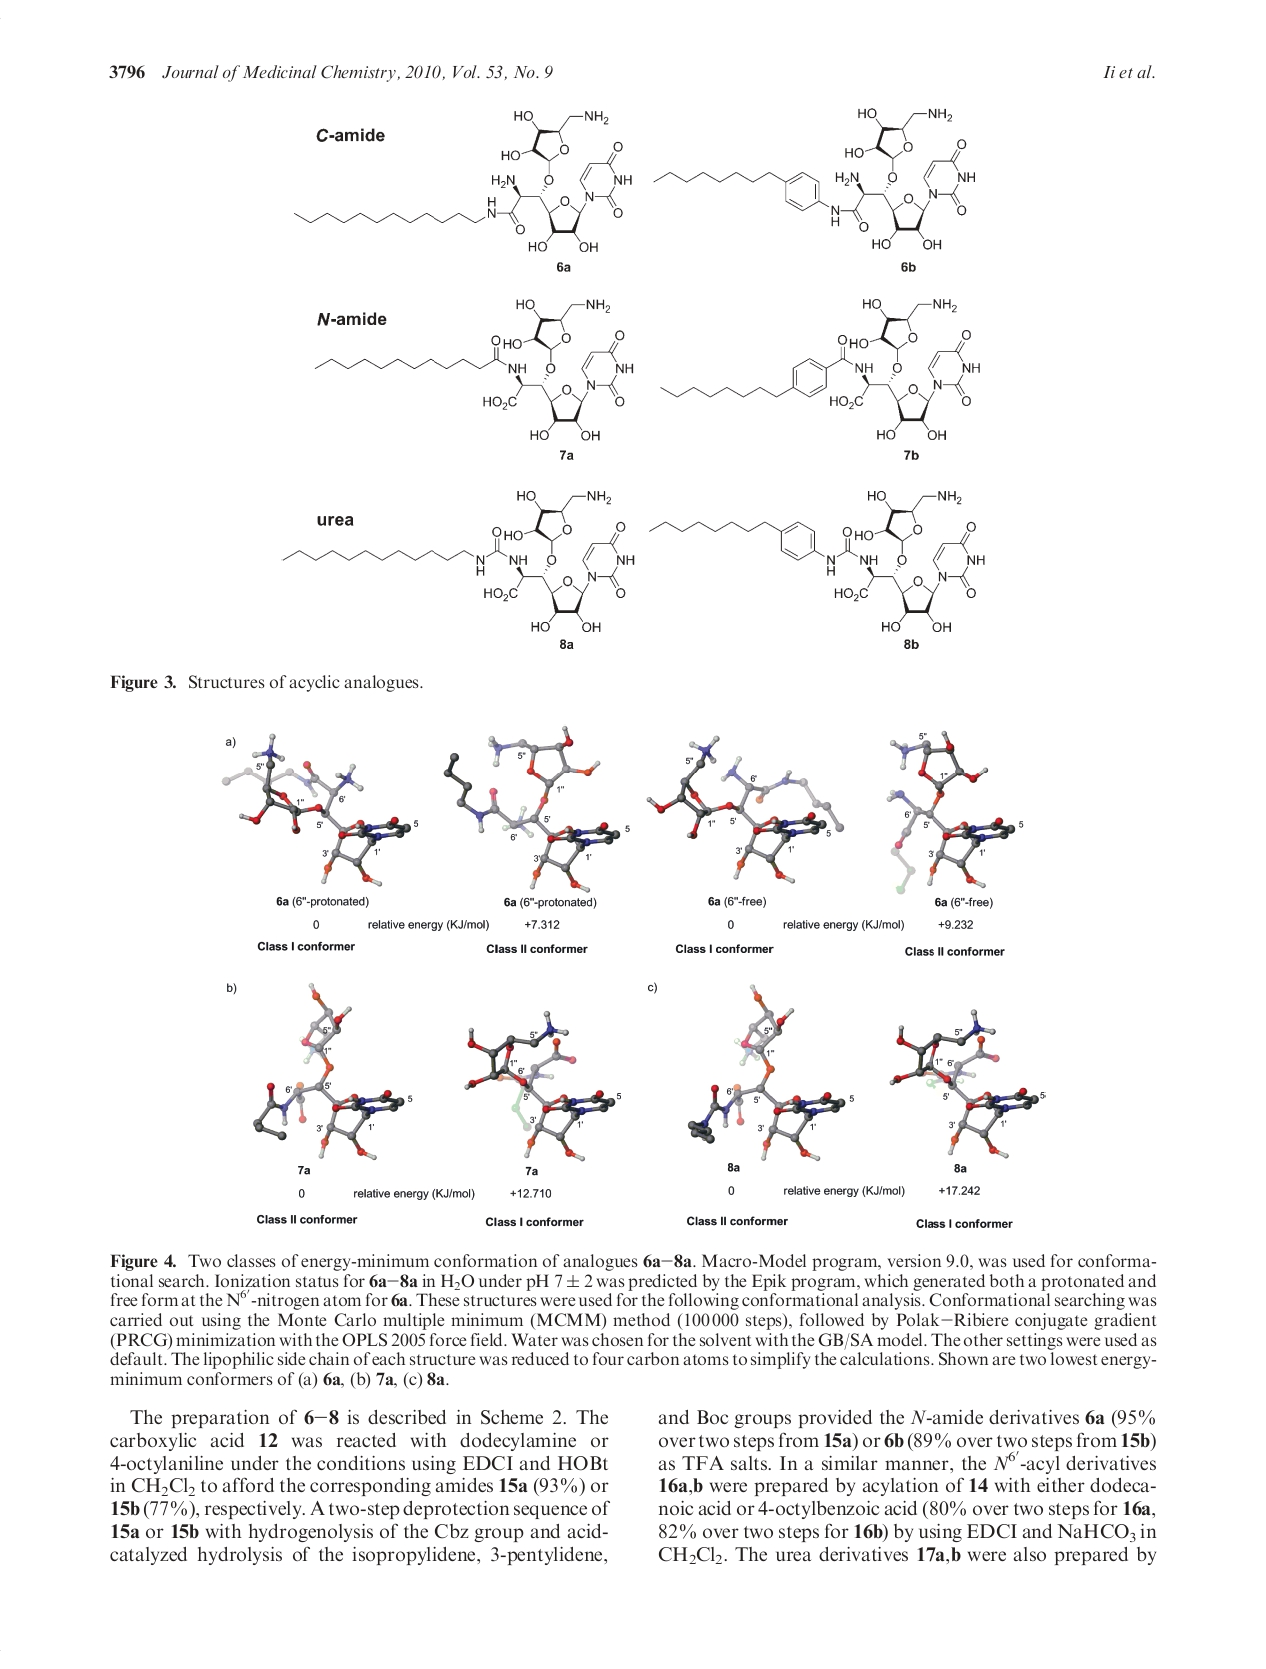exist_molecular: (278, 485, 640, 633), (293, 100, 637, 254), (644, 485, 989, 634), (311, 293, 634, 444), (653, 102, 979, 253), (658, 293, 983, 442)
